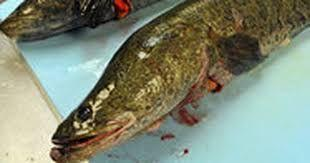Snakehead: (46, 0, 310, 163)
